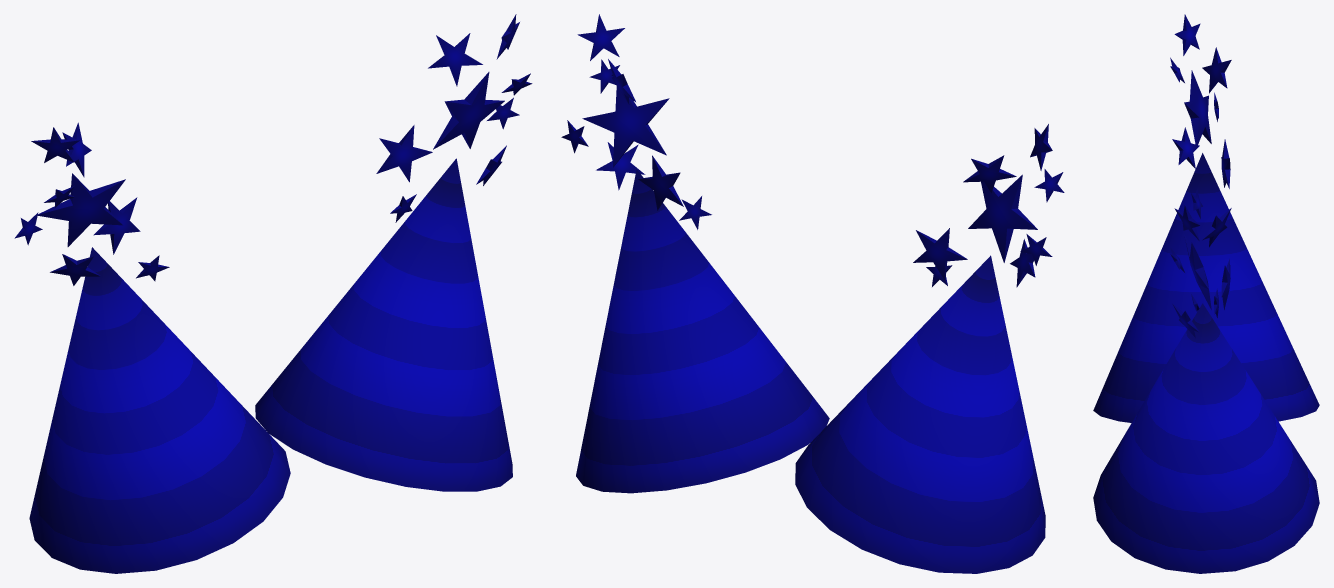
3 renders of one model, left to right at view 1: azimuth 30°, elevation 25°; view 2: azimuth 150°, elevation 25°; view 3: azimuth 270°, elevation 25°, orthographic. The views are drawn at different scales.
Parts seen in each view (by area): view 1: geometry_0; view 2: geometry_0; view 3: geometry_0.
Part boxes in pixels (<box>): geometry_0: <box>14,14,532,573</box>; geometry_0: <box>561,14,1064,573</box>; geometry_0: <box>1093,14,1319,573</box>.
Size of the model in its own units: 1.39 by 1.15 by 0.6351.
1 material, 1 textured.
